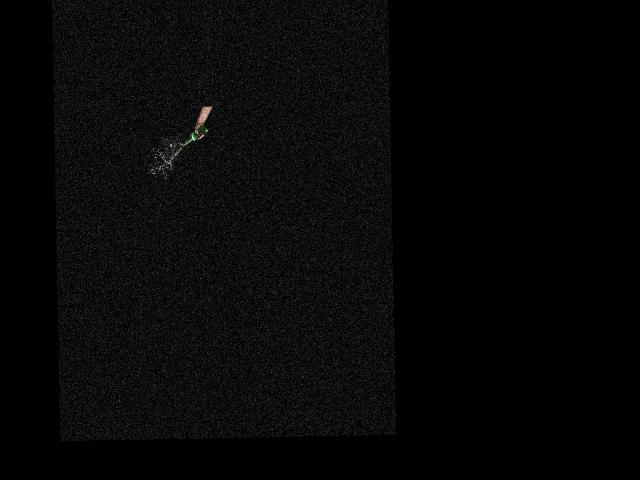beer: (181, 124, 208, 146)
